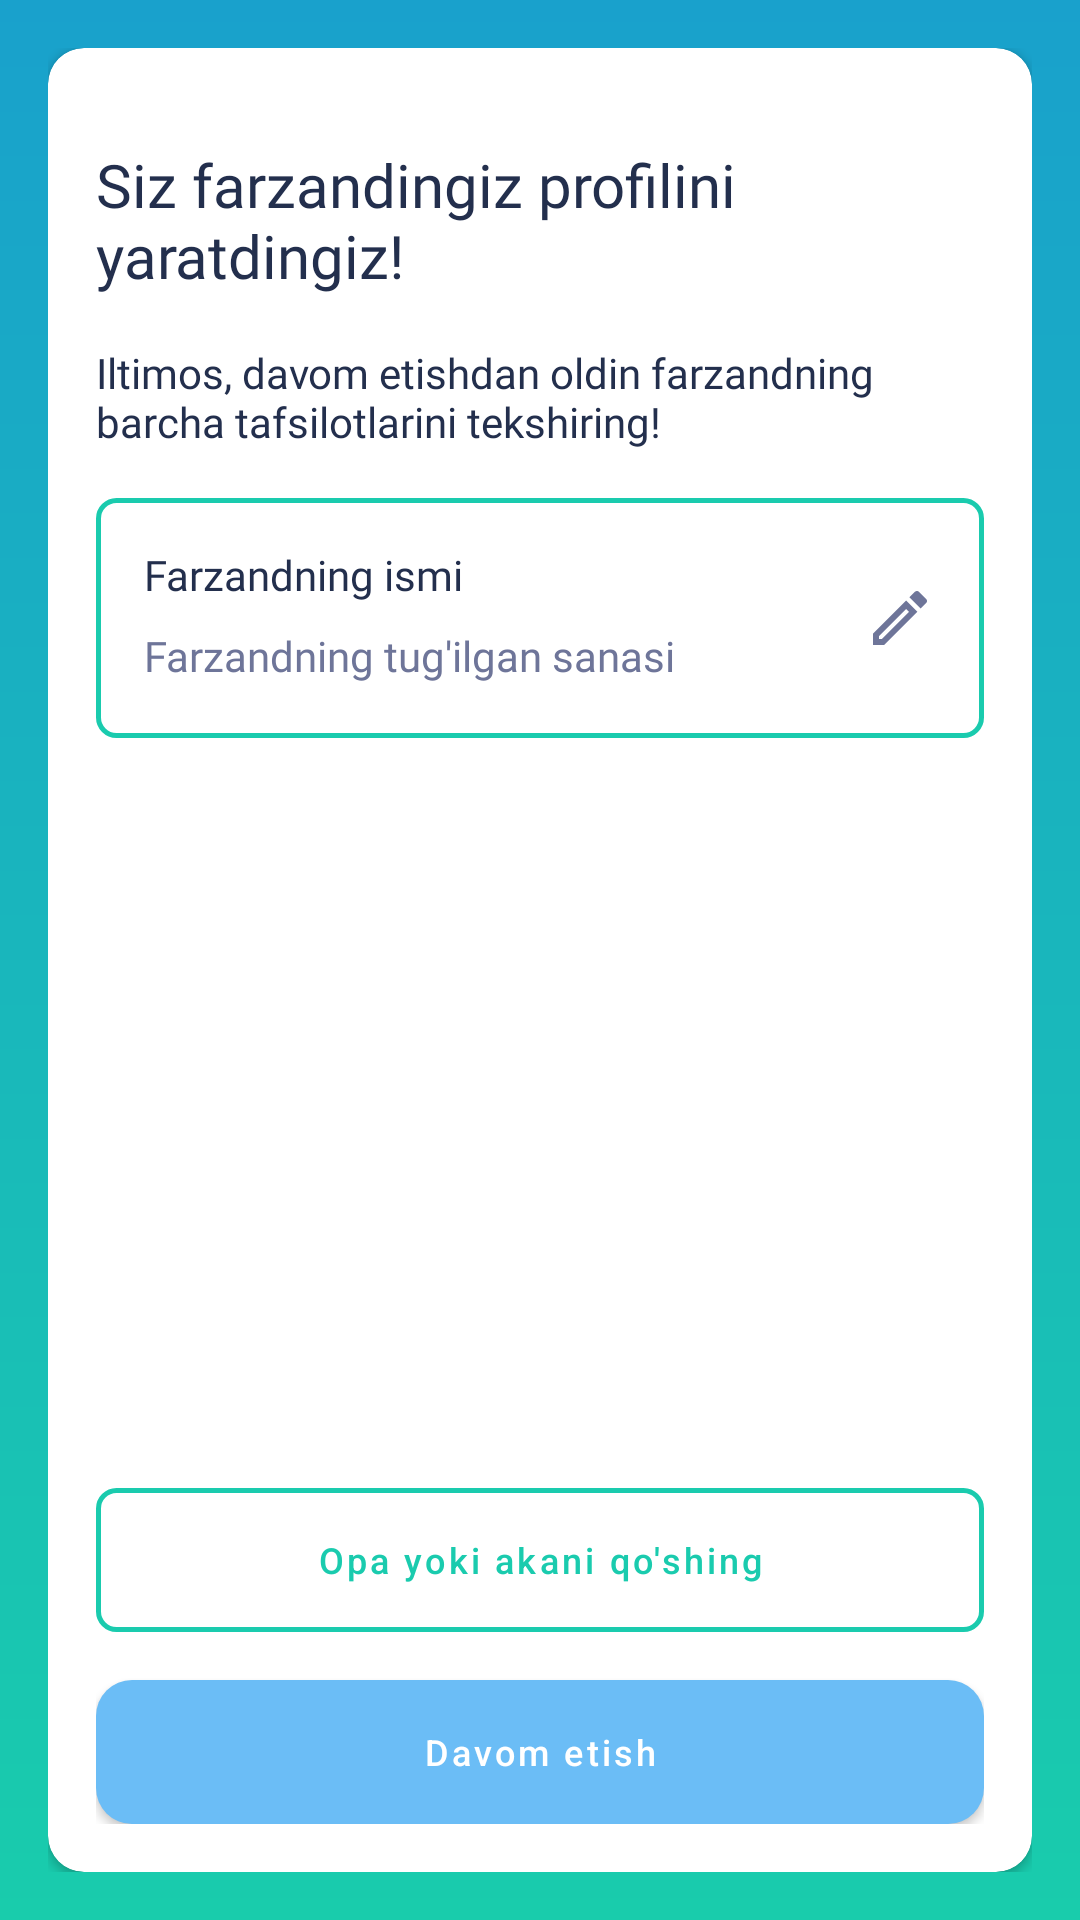

Named icons in this screenshot (1080px×1920px) and their centers, point (x, y):
edit pen: point (900, 618)
